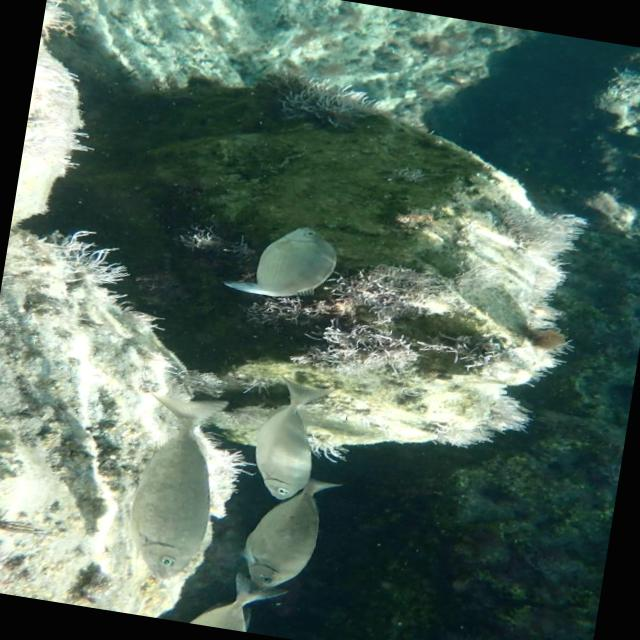Sokar Baligi: (104, 378, 242, 598), (224, 364, 348, 508), (214, 205, 362, 322)
